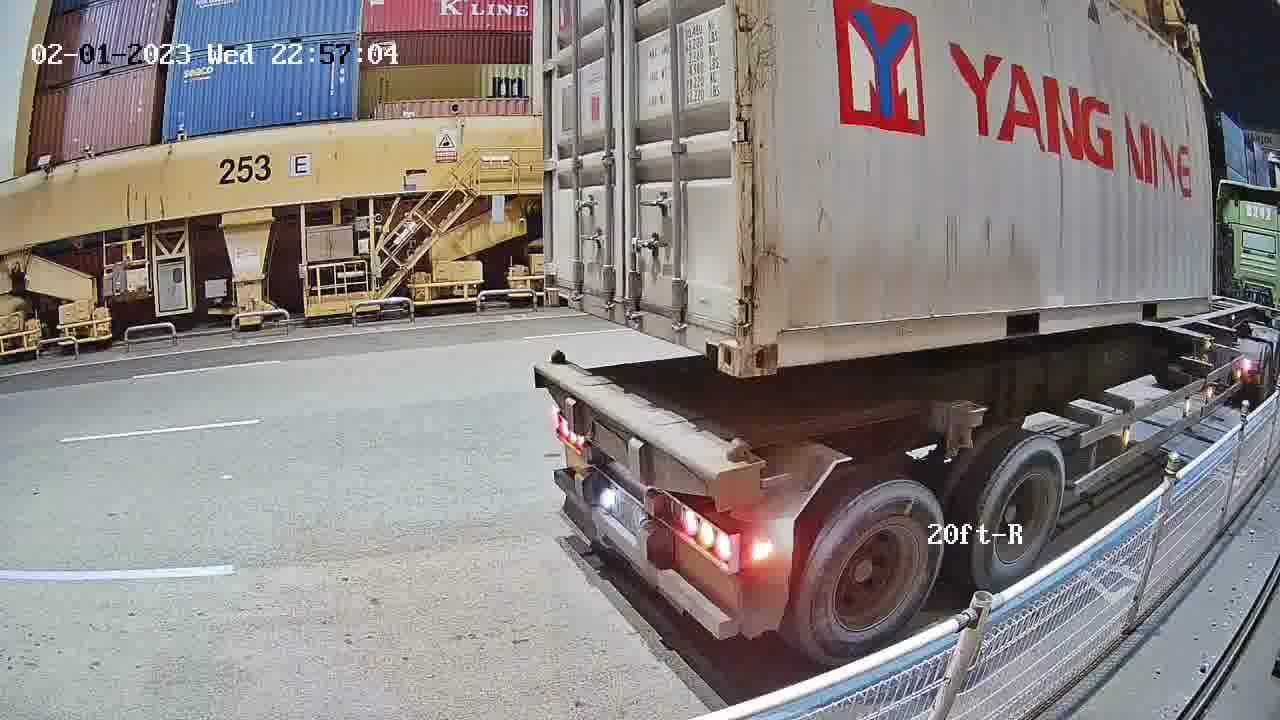Chassis: (536, 362, 764, 498)
Cone: (720, 436, 755, 509), (546, 348, 570, 367)
Hole_L: (741, 306, 811, 378), (544, 267, 579, 314)
Hole_R: (692, 299, 743, 380)
Tire: (805, 483, 943, 659), (974, 438, 1065, 592)
